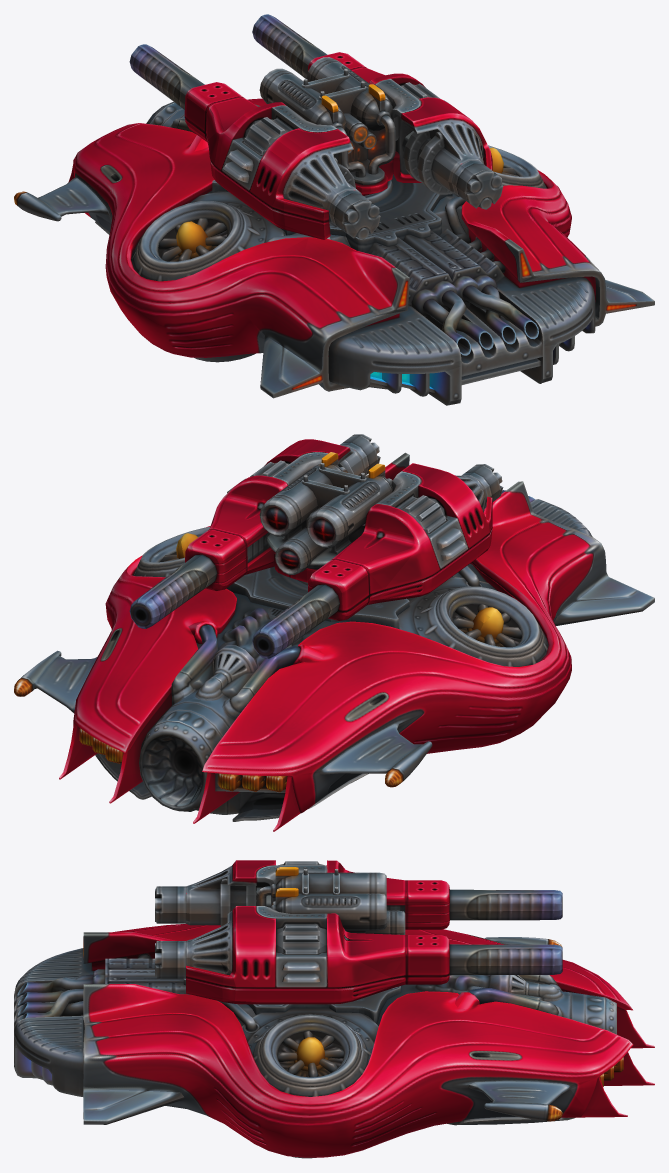
The model's file is RF_TwinsCrusader.glb.
3 views of the same model, one above another, from view 1: azimuth 30°, elevation 25°; view 2: azimuth 150°, elevation 25°; view 3: azimuth 270°, elevation 25° (orthographic). The views are drawn at different scales.
Parts seen in each view (by area): view 1: hull, turret, barrel_l, barrel_r, reel_l; view 2: hull, turret, barrel_l, barrel_r, reel_l; view 3: hull, turret, barrel_l, barrel_r, reel_r, rpropeller.
Boxes of the visible parts, x1,y1,x2,y2 form: hull: (14,98,654,405); turret: (184,52,492,239); barrel_l: (129,44,380,239); barrel_r: (252,14,503,209); reel_l: (244,117,292,154); hull: (14,452,654,831); turret: (185,439,492,620); barrel_l: (252,464,503,658); barrel_r: (129,434,380,628); reel_l: (397,495,445,533); hull: (14,924,654,1158); turret: (186,860,449,1004); barrel_l: (155,886,562,923); barrel_r: (155,941,562,978); reel_r: (276,925,326,953); rpropeller: (277,1035,343,1077).
Bounding box in the file's own units: 439 × 237 × 622.
Materials: 2 (2 with a texture image).
